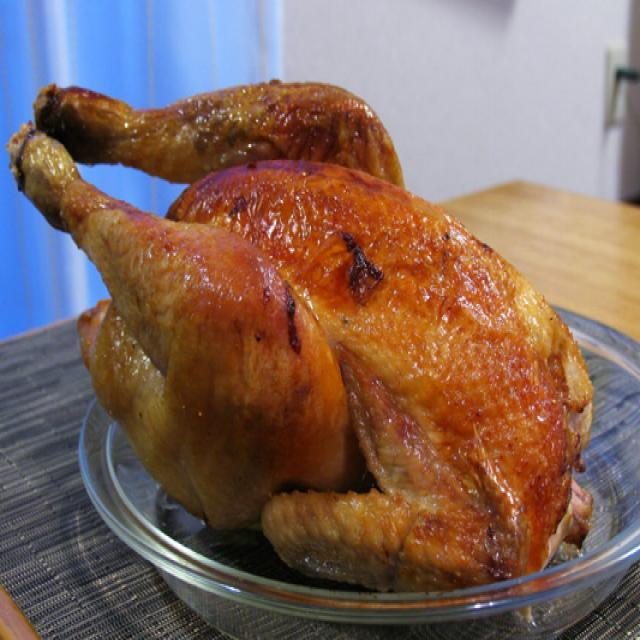Chicken roast: (28, 64, 591, 603)
